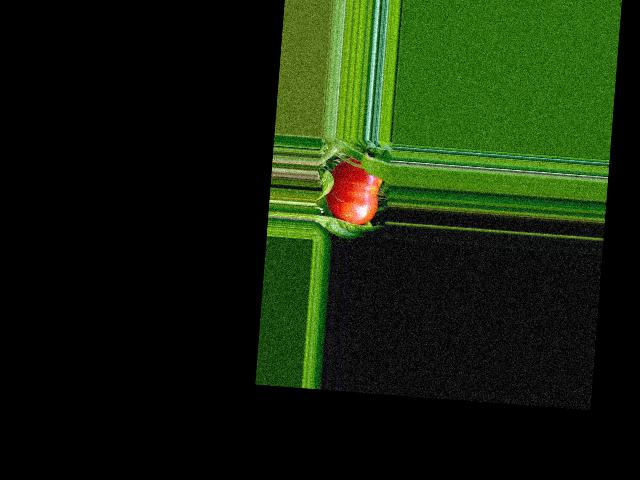tomato: (324, 155, 384, 226)
